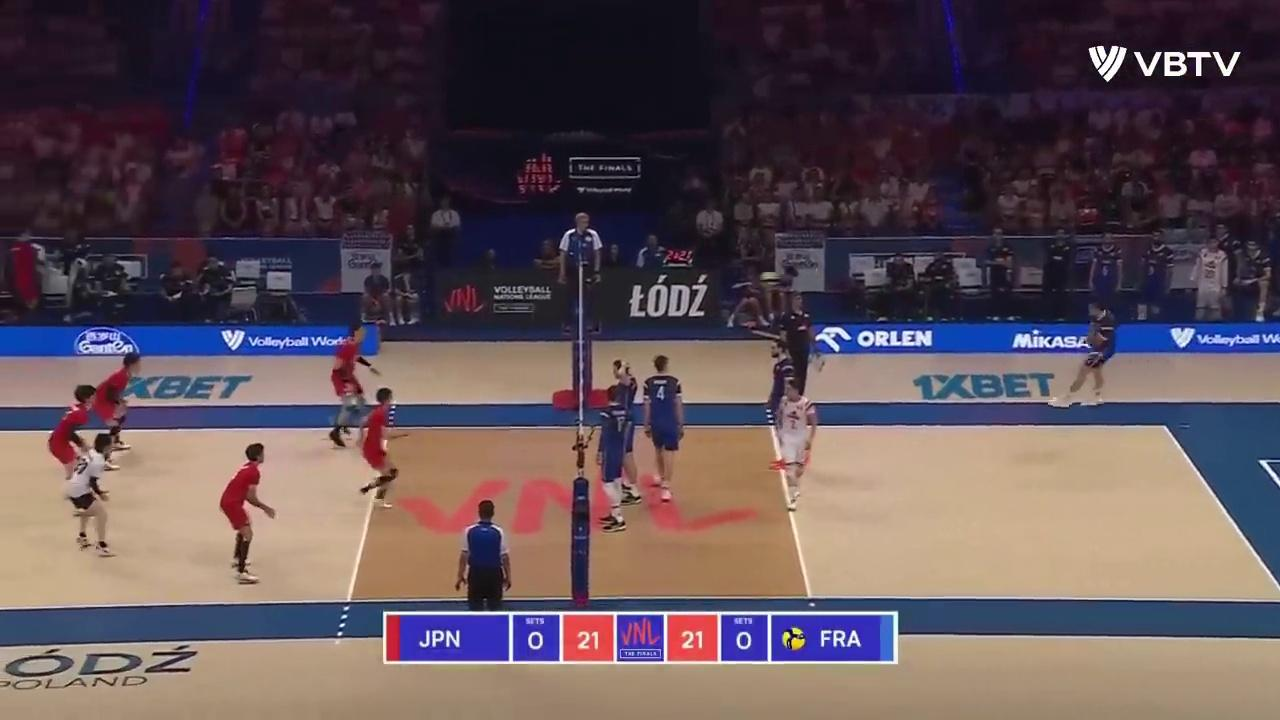ball: (759, 271, 781, 288)
